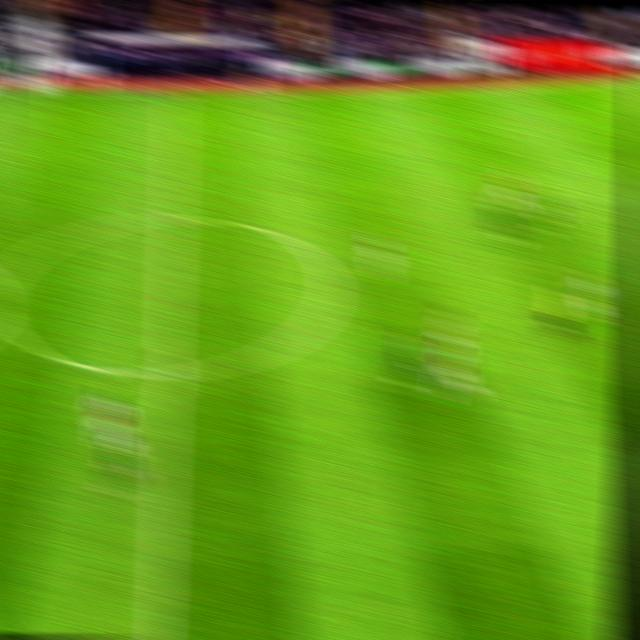halfcircle_bottom: (148, 351, 190, 391)
halfcircle_top: (151, 197, 195, 238)
midline_top_intersection: (159, 80, 191, 106)
